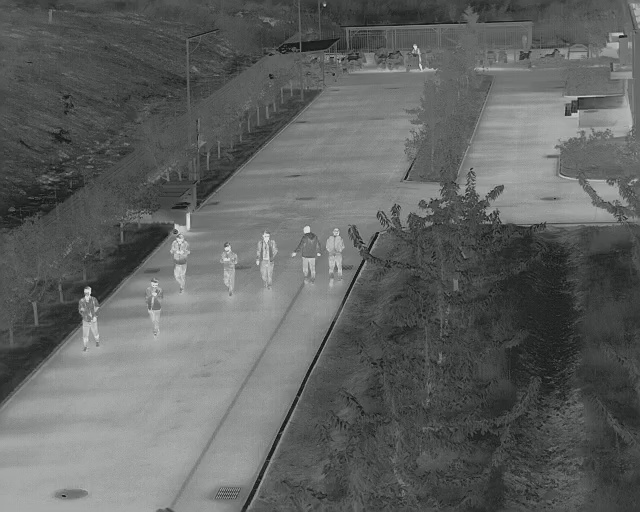NonMotorVehicle: (403, 43, 425, 74)
person: (292, 224, 319, 287), (77, 285, 101, 350), (254, 230, 277, 289), (323, 228, 345, 285), (170, 232, 189, 293), (145, 277, 162, 336), (220, 243, 237, 295)
